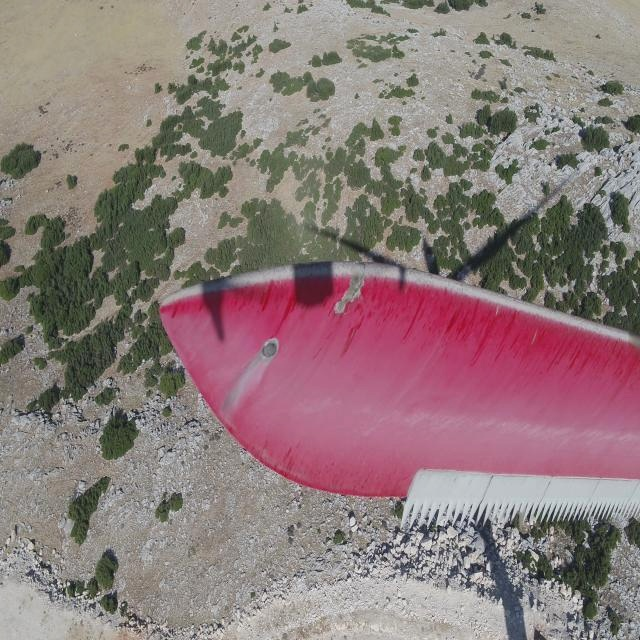Coating_defects: (331, 265, 371, 316)
